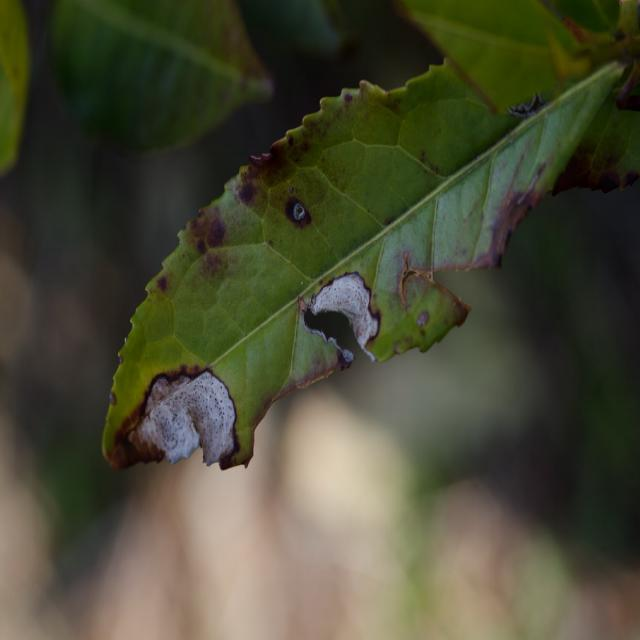Tea cloud leaf blight: (124, 353, 240, 466), (295, 259, 386, 371)
